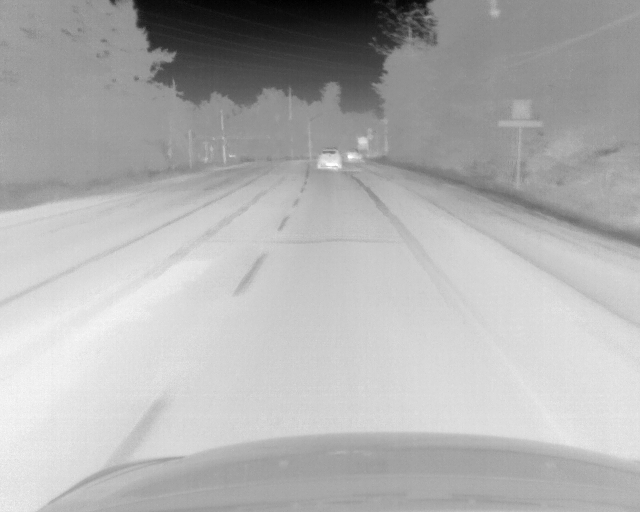car: (314, 148, 341, 172), (344, 148, 362, 162)
